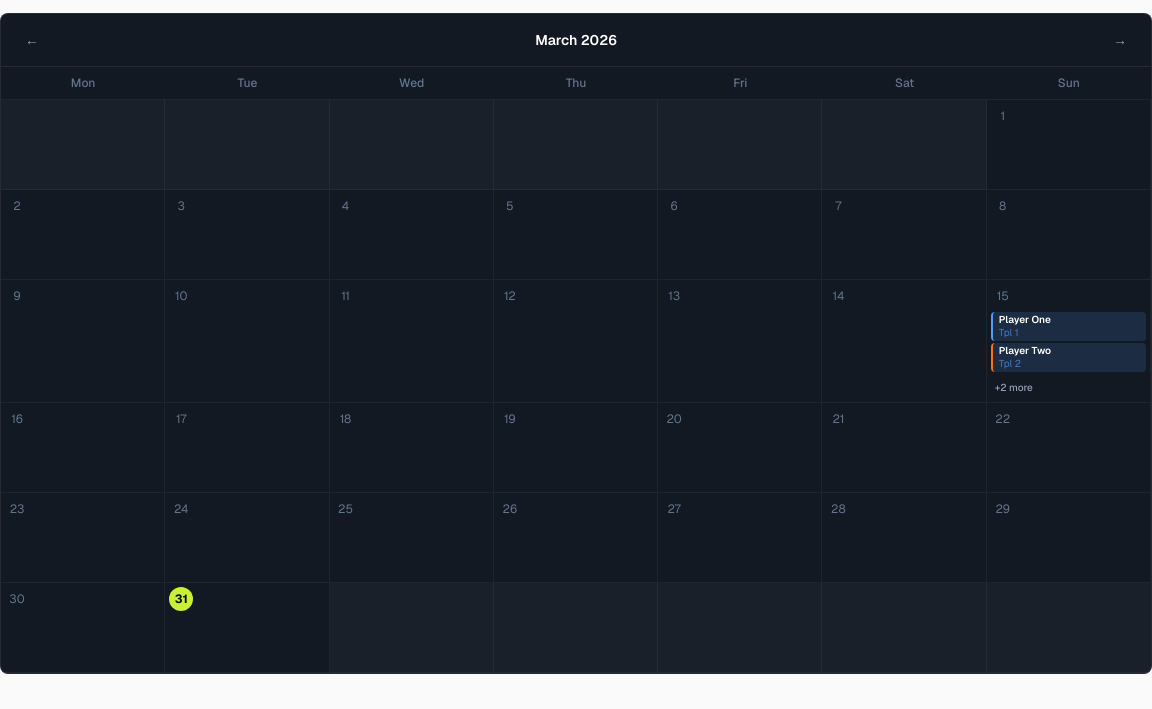
Test case: CalendarView — overflow (+N more) › closes popover on Escape key
Click the button "+2 more" at x=1068, y=388, box [991,378,1146,397]
(page scrolled)
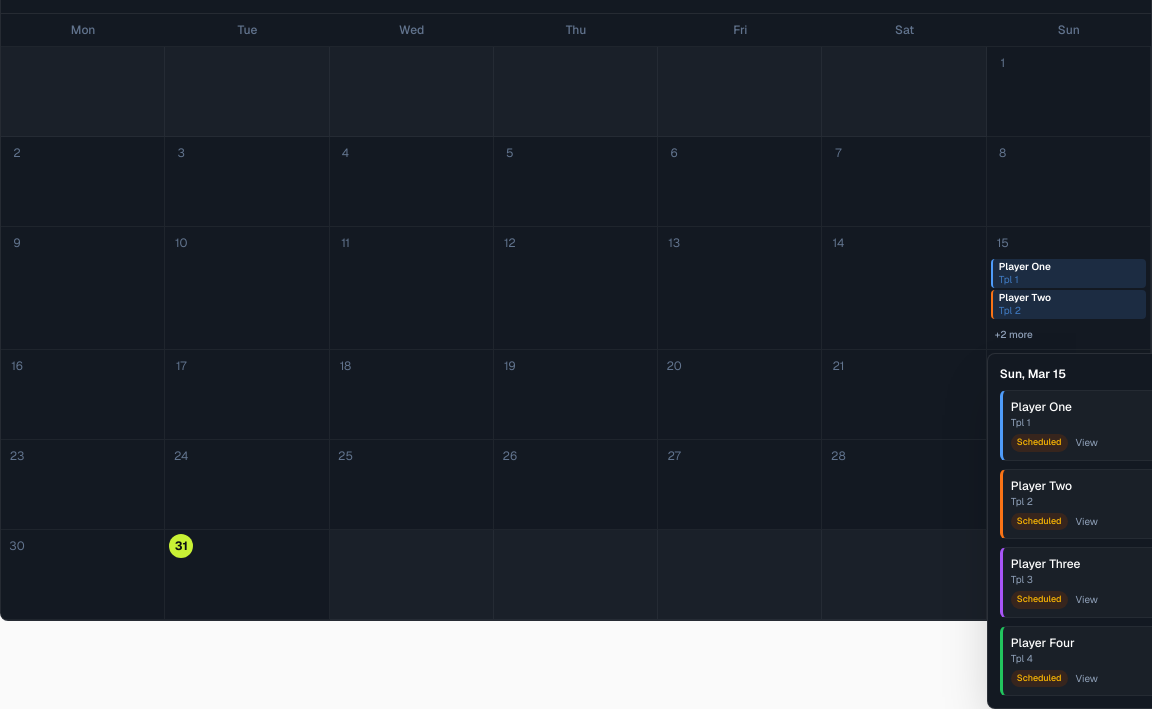
Press Escape
(page scrolled)
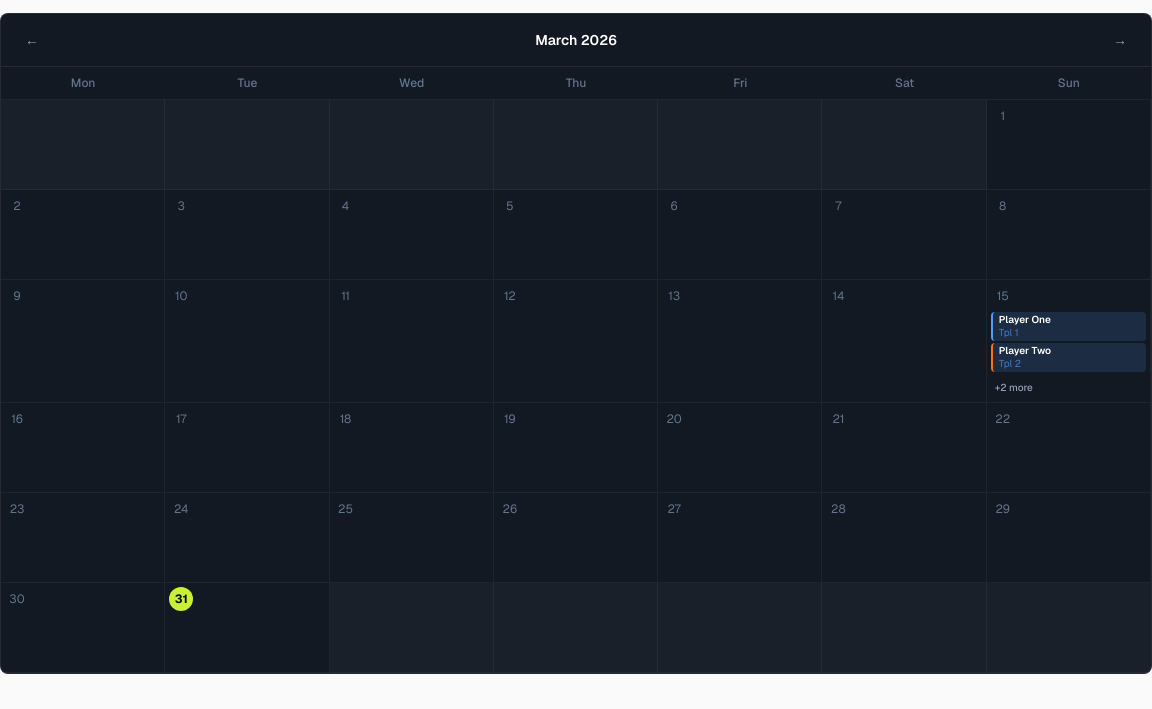
expect the dialog is gone: met
